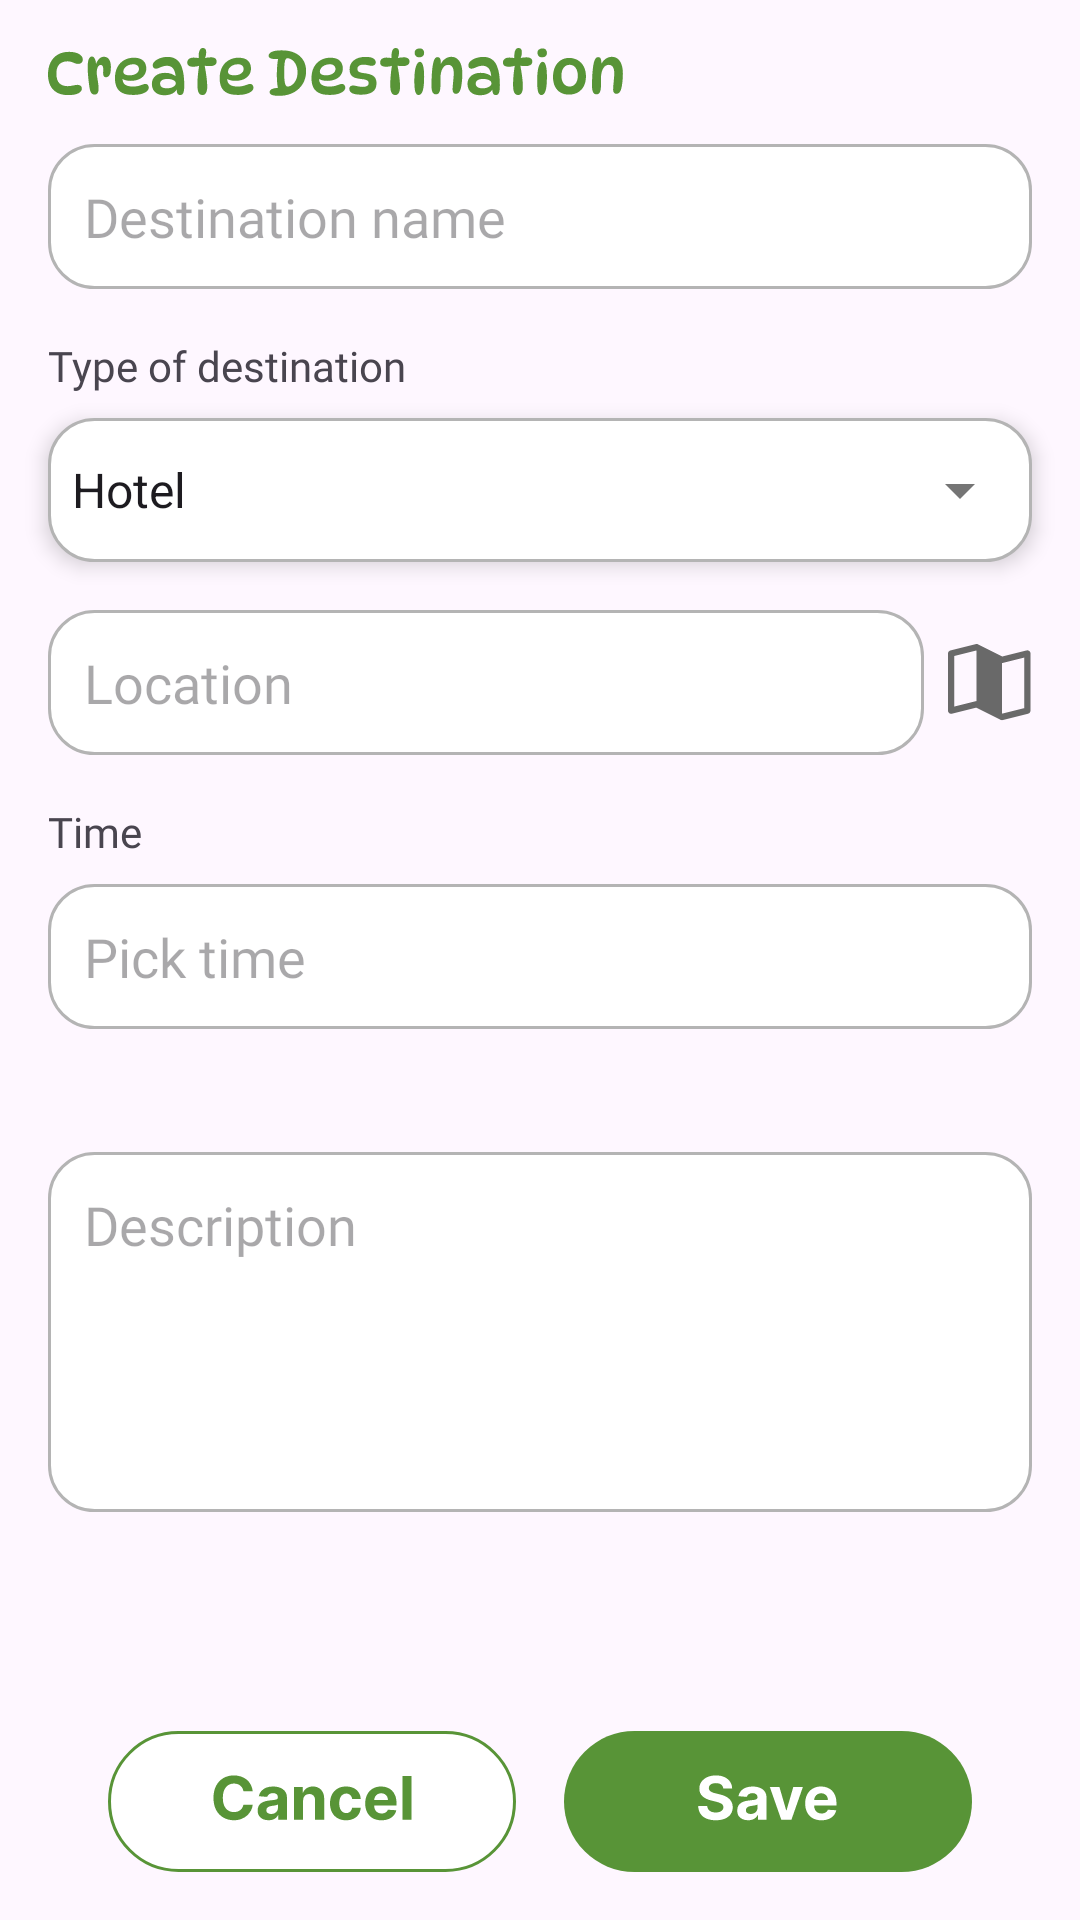

Where icons sit on this 1080*1920 app screen, as {"x1": x1, "y1": y1, "x2": x2, "y2": y2}:
Search Map: {"x1": 948, "y1": 644, "x2": 1031, "y2": 720}
